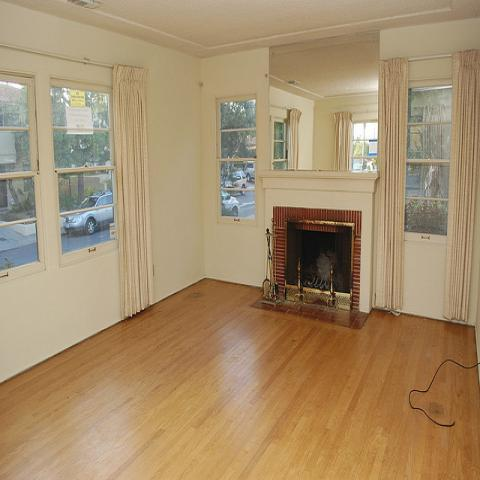car: (61, 190, 115, 237), (224, 171, 248, 196), (221, 192, 240, 216), (243, 161, 255, 182)
